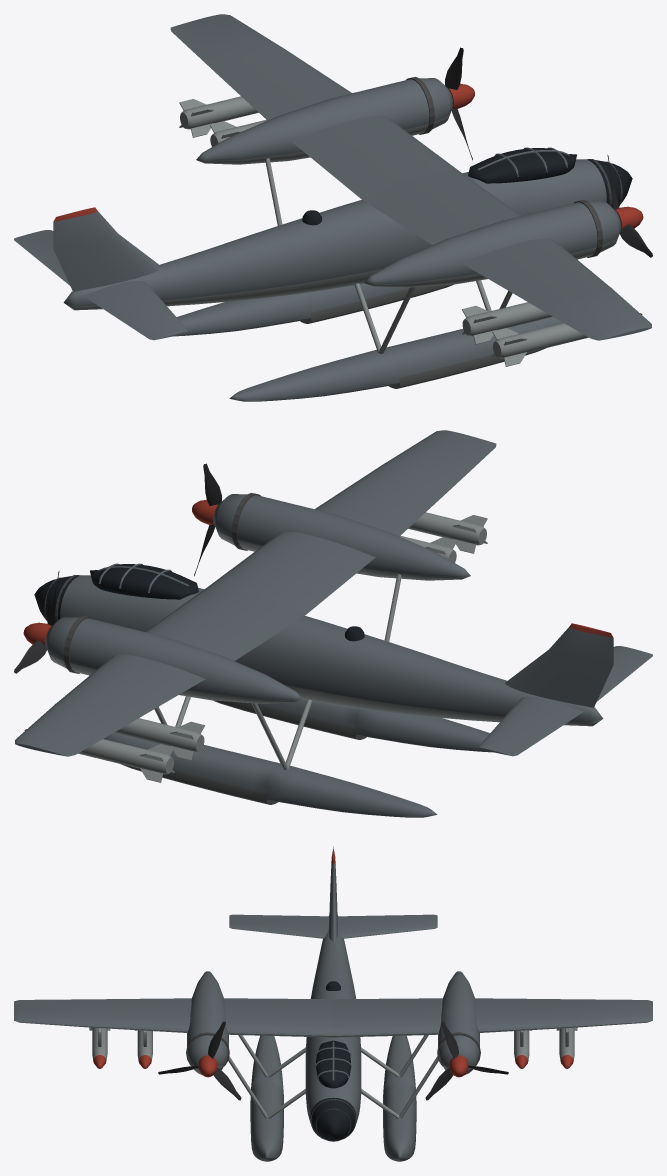
Rendered from fh_battle_e_seaplane.glb.
The picture shows the model from 3 angles, top to bottom: view 1: azimuth 30°, elevation 25°; view 2: azimuth 150°, elevation 25°; view 3: azimuth 270°, elevation 25°; orthographic projection. The views are drawn at different scales.
Visible parts, largest first — view 1: body; view 2: body; view 3: body.
Part boxes in pixels (bbox=[...]): body: bbox=[14, 14, 652, 401]; body: bbox=[14, 430, 652, 817]; body: bbox=[14, 846, 652, 1161].
Bounding box in the file's own units: 1 × 0.3424 × 1.28.
